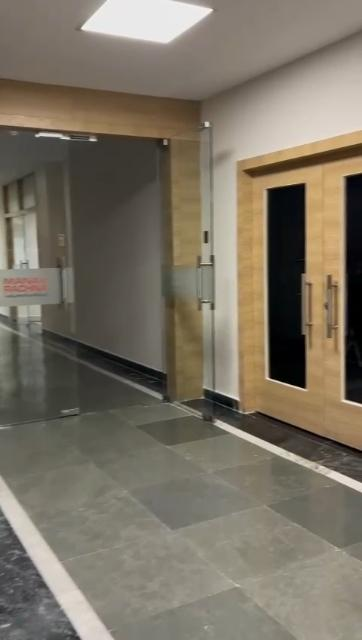door: (233, 153, 362, 424)
floor: (0, 335, 362, 638)
wall: (70, 165, 160, 352), (225, 62, 362, 149)
